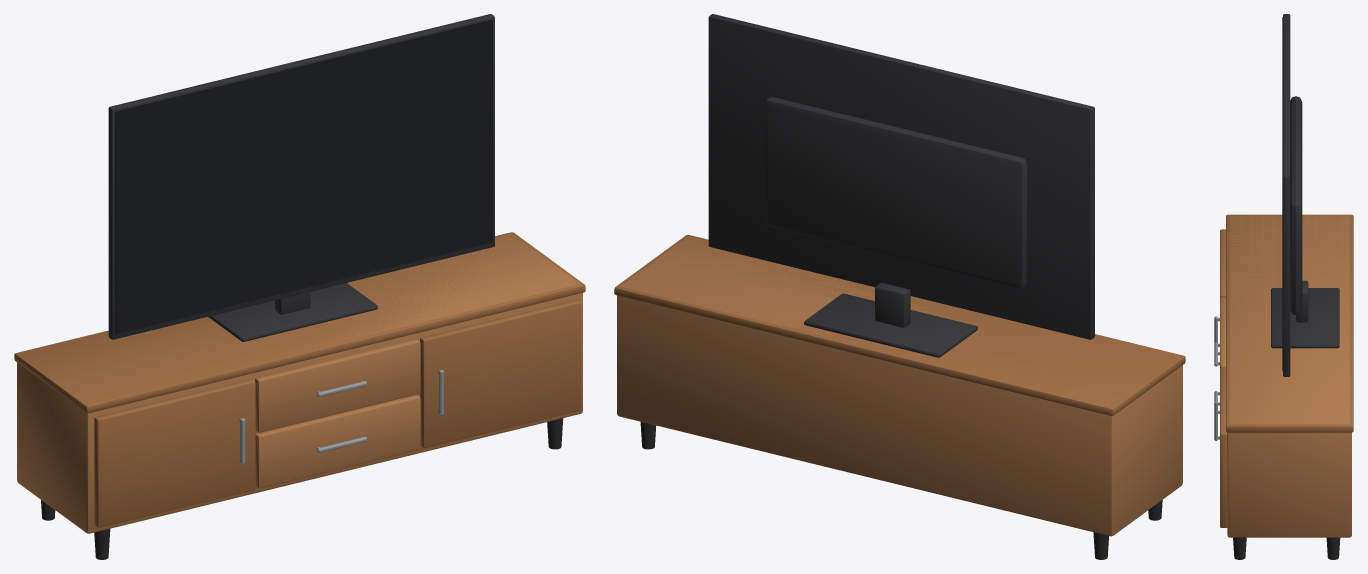
3 renders of one model, left to right at view 1: azimuth 30°, elevation 25°; view 2: azimuth 150°, elevation 25°; view 3: azimuth 270°, elevation 25°, orthographic. The views are drawn at different scales.
Visible parts, largest first — view 1: TV_Mesh; view 2: TV_Mesh; view 3: TV_Mesh.
Boxes of the visible parts, x1,y1,x2,y2 form: TV_Mesh: (14, 14, 585, 559); TV_Mesh: (614, 14, 1185, 559); TV_Mesh: (1214, 14, 1353, 559).
Size of the model in its own units: 1.61 by 1.3 by 0.447.
